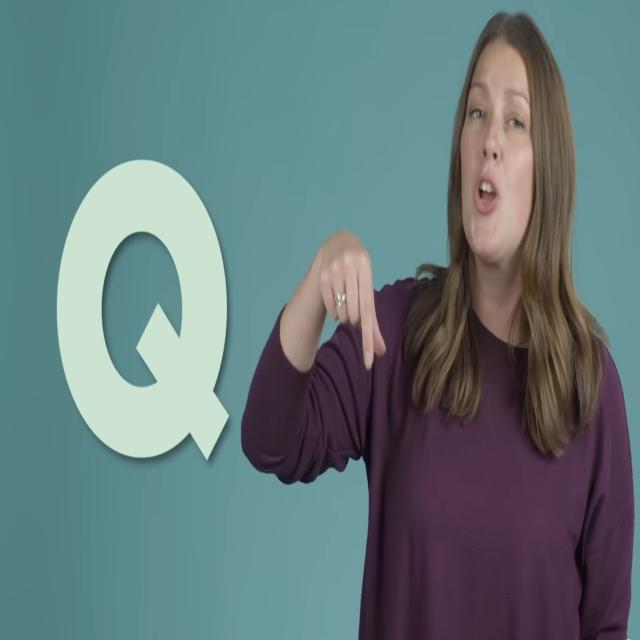Q: (294, 220, 406, 385)
